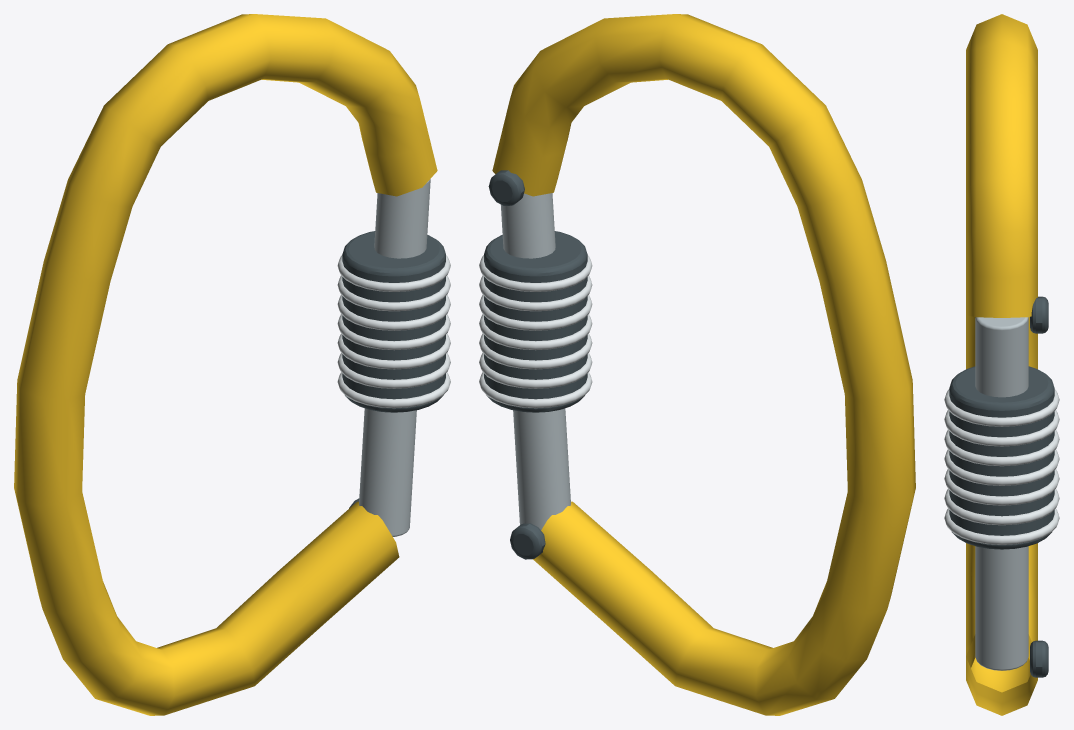
File: carabiner.glb
The picture shows the model from 3 angles, left to right: view 1: azimuth 30°, elevation 25°; view 2: azimuth 150°, elevation 25°; view 3: azimuth 270°, elevation 25°; orthographic projection.
Parts seen in each view (by area): view 1: carabiner_render_mesh; view 2: carabiner_render_mesh; view 3: carabiner_render_mesh.
Part boxes in pixels (bbox=[...]): carabiner_render_mesh: bbox=[14, 14, 450, 715]; carabiner_render_mesh: bbox=[479, 14, 915, 715]; carabiner_render_mesh: bbox=[944, 14, 1059, 715].
Size of the model in its own units: 0.0806 by 0.1223 by 0.0186.
